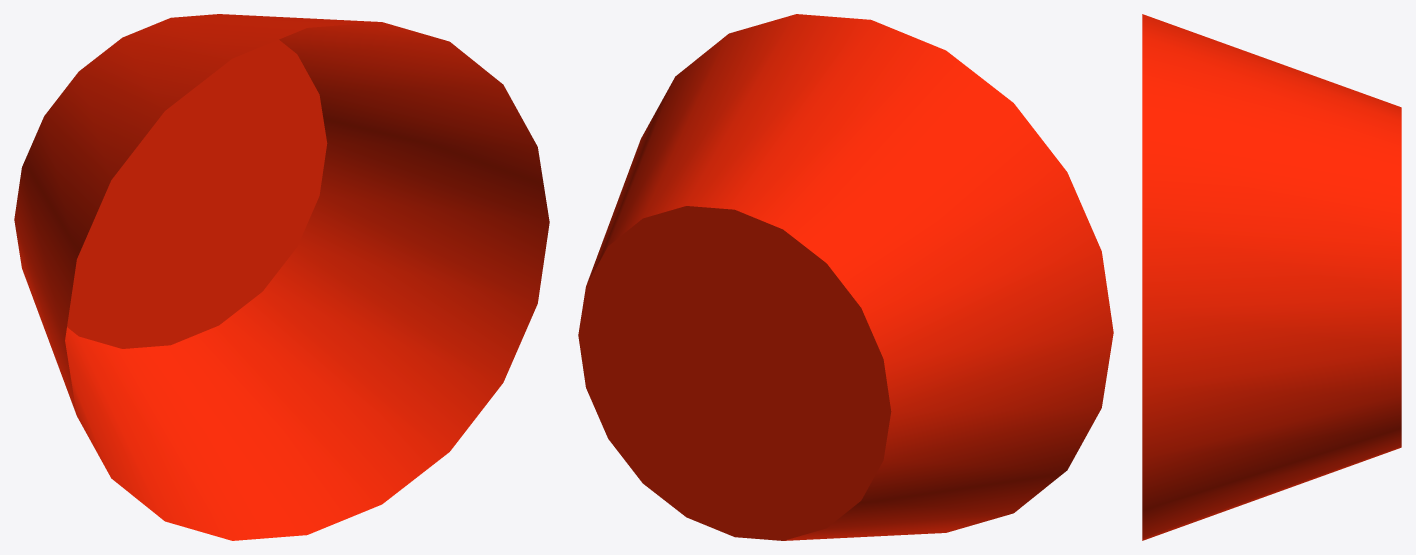
3 views of the same model, side by side, from view 1: azimuth 30°, elevation 25°; view 2: azimuth 150°, elevation 25°; view 3: azimuth 270°, elevation 25° (orthographic). The views are drawn at different scales.
Visible parts, largest first — view 1: Cylinder; view 2: Cylinder; view 3: Cylinder.
Part boxes in pixels (x1,y1,x2,y2): Cylinder: (14,14,549,540); Cylinder: (578,14,1113,540); Cylinder: (1142,14,1401,540).
Bounding box in the file's own units: 155 × 155 × 75.6.
